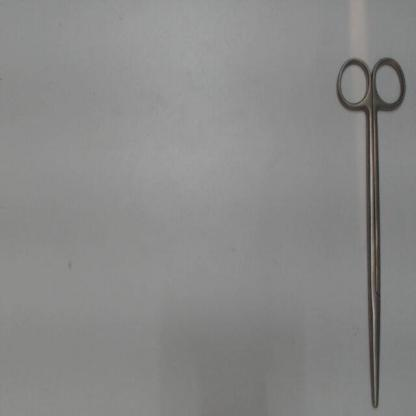9 Metzenbaum Scissors: (334, 50, 410, 411)
